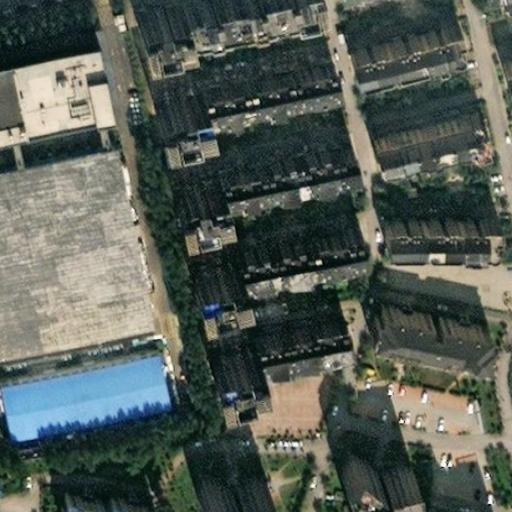building: (0, 317, 170, 411), (204, 78, 347, 138), (0, 28, 87, 117), (203, 129, 341, 185), (213, 213, 352, 268), (185, 46, 323, 101), (225, 168, 366, 221), (360, 290, 484, 347), (362, 99, 478, 154), (330, 12, 451, 63), (318, 436, 399, 512), (242, 251, 369, 298), (233, 308, 341, 357), (262, 336, 358, 379), (374, 208, 488, 239), (42, 478, 139, 512), (185, 466, 256, 512), (177, 205, 233, 243), (145, 73, 191, 111), (163, 156, 209, 194), (173, 240, 219, 278), (194, 329, 240, 367), (488, 43, 512, 77)
